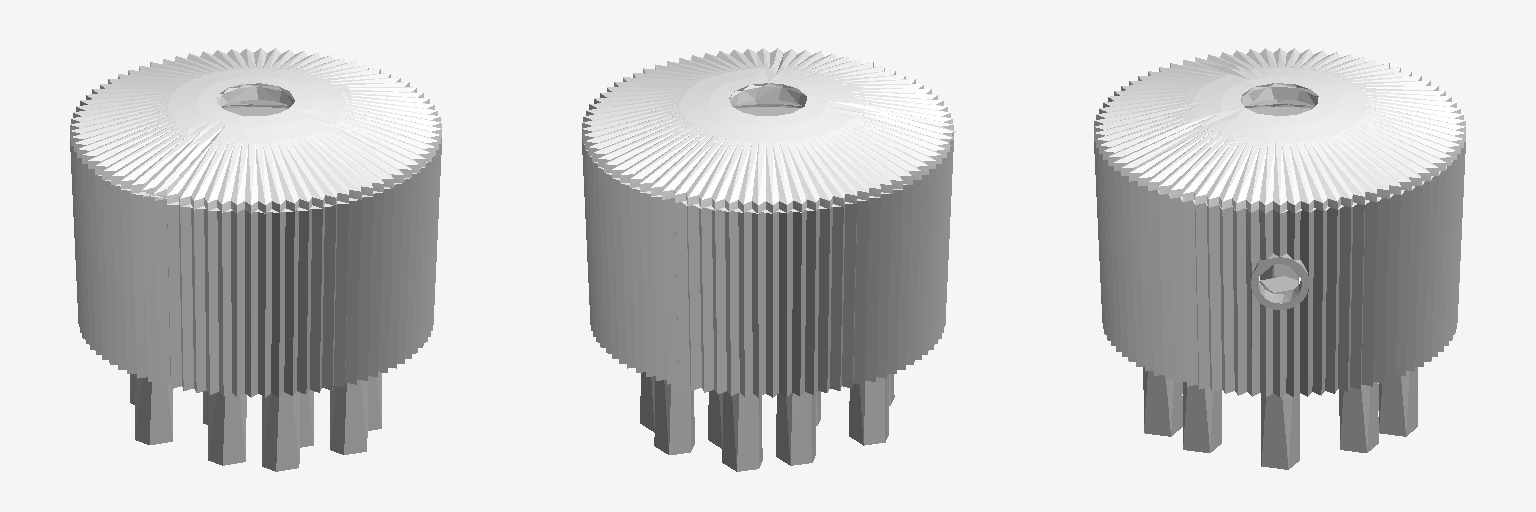
The model's file is sweeper.obj.
3 renders of one model, left to right at view 1: azimuth 30°, elevation 25°; view 2: azimuth 150°, elevation 25°; view 3: azimuth 270°, elevation 25°, orthographic.
Visible parts, largest first — view 1: Top.001_Cylinder.001; view 2: Top.001_Cylinder.001; view 3: Top.001_Cylinder.001.
Part boxes in pixels (x1,y1,x2,y2): Top.001_Cylinder.001: (70,48,441,471); Top.001_Cylinder.001: (582,48,955,471); Top.001_Cylinder.001: (1094,48,1465,469).
Size of the model in its own units: 95.12 by 88.01 by 95.12.